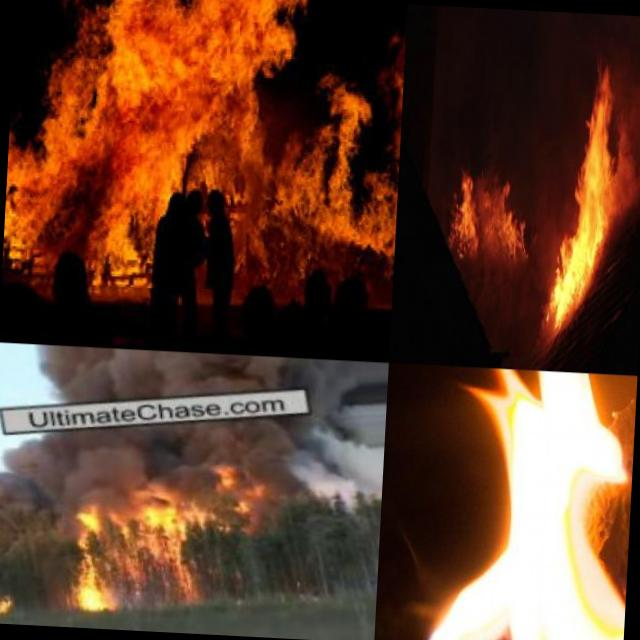fire: (2, 0, 407, 279), (413, 365, 637, 640), (537, 51, 640, 359), (442, 164, 536, 268), (74, 499, 191, 557), (59, 550, 114, 611), (210, 460, 263, 518), (0, 582, 14, 618)
smoke: (0, 432, 213, 503), (263, 424, 385, 514)
